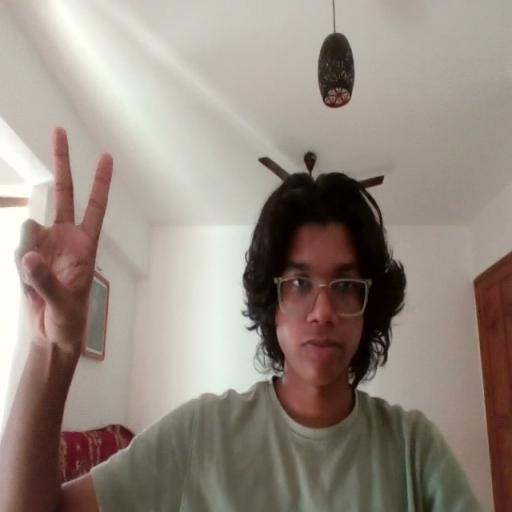scissor: (11, 122, 116, 346), (12, 122, 116, 348)
